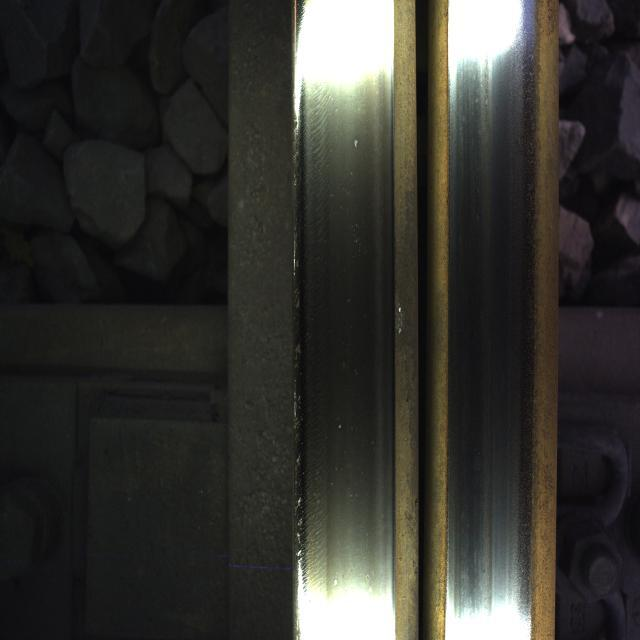break: (458, 75, 522, 610), (304, 69, 366, 601)
